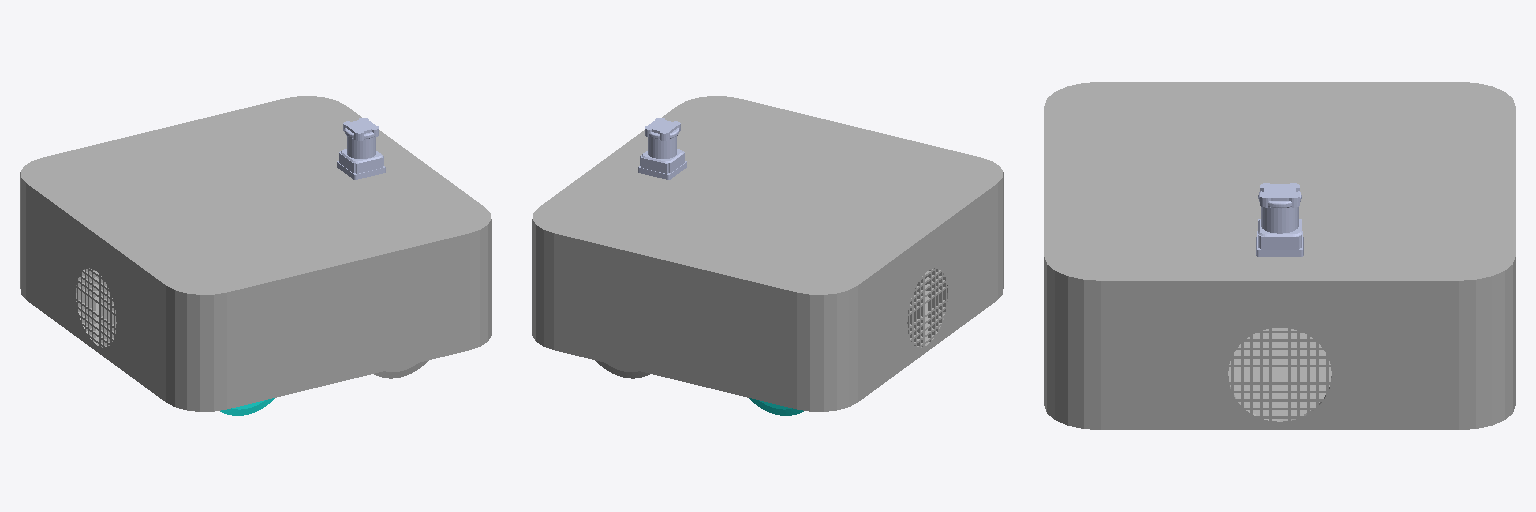
URDF robot description (rbt):
<robot
  name="rbt">
  <link
    name="base_link">
    <inertial>
      <origin
        xyz="0.00249189384812189 -1.57266312588598E-10 0.132977386791425"
        rpy="0 0 0" />
      <mass
        value="34.8310964963823" />
      <inertia
        ixx="0.169235422161565"
        ixy="-1.36500224779735E-11"
        ixz="0.00632442399133717"
        iyy="0.156418904598816"
        iyz="-3.22056686985752E-10"
        izz="0.0347596628732701" />
    </inertial>
    <visual>
      <origin
        xyz="0 0 0"
        rpy="0 0 0" />
      <geometry>
        <mesh
          filename="package://rbt_description/meshes/base_link.STL" />
      </geometry>
      <material
        name="">
        <color
          rgba="0.752941176470588 0.752941176470588 0.752941176470588 1" />
      </material>
    </visual>
    <collision>
      <origin
        xyz="0 0 0"
        rpy="0 0 0" />
      <geometry>
        <mesh
          filename="package://rbt_description/meshes/base_link.STL" />
      </geometry>
    </collision>
  </link>
  <link
    name="l_wheel_link">
    <inertial>
      <origin
        xyz="0 0 0"
        rpy="0 0 0" />
      <mass
        value="0.38838" />
      <inertia
        ixx="0"
        ixy="0"
        ixz="0"
        iyy="0"
        iyz="0"
        izz="0" />
    </inertial>
    <visual>
      <origin
        xyz="0 0 0"
        rpy="0 0 0" />
      <geometry>
        <mesh
          filename="package://rbt_description/meshes/l_wheel_link.STL" />
      </geometry>
      <material
        name="">
        <color
          rgba="0.15294 1 0.97255 1" />
      </material>
    </visual>
    <collision>
      <origin
        xyz="0 0 0"
        rpy="0 0 0" />
      <geometry>
        <mesh
          filename="package://rbt_description/meshes/l_wheel_link.STL" />
      </geometry>
    </collision>
  </link>
  <joint
    name="l_wheel_joint"
    type="continuous">
    <origin
      xyz="-0.12 0.175 0.07"
      rpy="1.5777E-30 -2.3314E-29 -3.2868E-15" />
    <parent
      link="base_link" />
    <child
      link="l_wheel_link" />
    <axis
      xyz="0 -1 0" />
  </joint>
  <link
    name="r_wheel_link">
    <inertial>
      <origin
        xyz="0 -2.7756E-17 0"
        rpy="0 0 0" />
      <mass
        value="0.38838" />
      <inertia
        ixx="0"
        ixy="0"
        ixz="0"
        iyy="0"
        iyz="0"
        izz="0" />
    </inertial>
    <visual>
      <origin
        xyz="0 0 0"
        rpy="0 0 0" />
      <geometry>
        <mesh
          filename="package://rbt_description/meshes/r_wheel_link.STL" />
      </geometry>
      <material
        name="">
        <color
          rgba="0.15294 1 0.97255 1" />
      </material>
    </visual>
    <collision>
      <origin
        xyz="0 0 0"
        rpy="0 0 0" />
      <geometry>
        <mesh
          filename="package://rbt_description/meshes/r_wheel_link.STL" />
      </geometry>
    </collision>
  </link>
  <joint
    name="r_wheel_joint"
    type="continuous">
    <origin
      xyz="-0.12 -0.175 0.07"
      rpy="1.5777E-30 -2.3314E-29 -3.2868E-15" />
    <parent
      link="base_link" />
    <child
      link="r_wheel_link" />
    <axis
      xyz="0 -1 0" />
  </joint>
  <link
    name="laser_link">
    <inertial>
      <origin
        xyz="2.7756E-17 -2.8995E-17 -0.0042085"
        rpy="0 0 0" />
      <mass
        value="0.11769" />
      <inertia
        ixx="0"
        ixy="0"
        ixz="0"
        iyy="0"
        iyz="0"
        izz="0" />
    </inertial>
    <visual>
      <origin
        xyz="0 0 0"
        rpy="0 0 0" />
      <geometry>
        <mesh
          filename="package://rbt_description/meshes/laser_link.STL" />
      </geometry>
      <material
        name="">
        <color
          rgba="0.79216 0.81961 0.93333 1" />
      </material>
    </visual>
    <collision>
      <origin
        xyz="0 0 0"
        rpy="0 0 0" />
      <geometry>
        <mesh
          filename="package://rbt_description/meshes/laser_link.STL" />
      </geometry>
    </collision>
  </link>
  <joint
    name="laser_joint"
    type="fixed">
    <origin
      xyz="0.165 0 0.257"
      rpy="1.5777E-30 -2.3314E-29 -3.2868E-15" />
    <parent
      link="base_link" />
    <child
      link="laser_link" />
    <axis
      xyz="0 0 0" />
  </joint>
</robot>

--- What the picture shows (computed from the rendered views, not written in the file) ---
Views: 3 orthographic renders of the robot side by side, from view 1: azimuth 30°, elevation 25°; view 2: azimuth 150°, elevation 25°; view 3: azimuth 270°, elevation 25°.
Model rbt with 4 links and 3 joints (2 continuous, 1 fixed), rooted at base_link, posed all joints at 0.
Visible links, largest first — view 1: base_link, laser_link; view 2: base_link, laser_link; view 3: base_link, laser_link.
Link boxes in pixels (left/top/right/bottom): base_link: left=20, top=96, right=491, bottom=411; laser_link: left=337, top=118, right=385, bottom=179; base_link: left=532, top=96, right=1003, bottom=411; laser_link: left=638, top=118, right=686, bottom=179; base_link: left=1044, top=82, right=1515, bottom=429; laser_link: left=1256, top=183, right=1303, bottom=256.
Size in the robot's own frame: 0.5 by 0.5 by 0.2917 metres.
Meshes: 4 distinct files referenced, 4 mesh visuals loaded (4 binary STL).